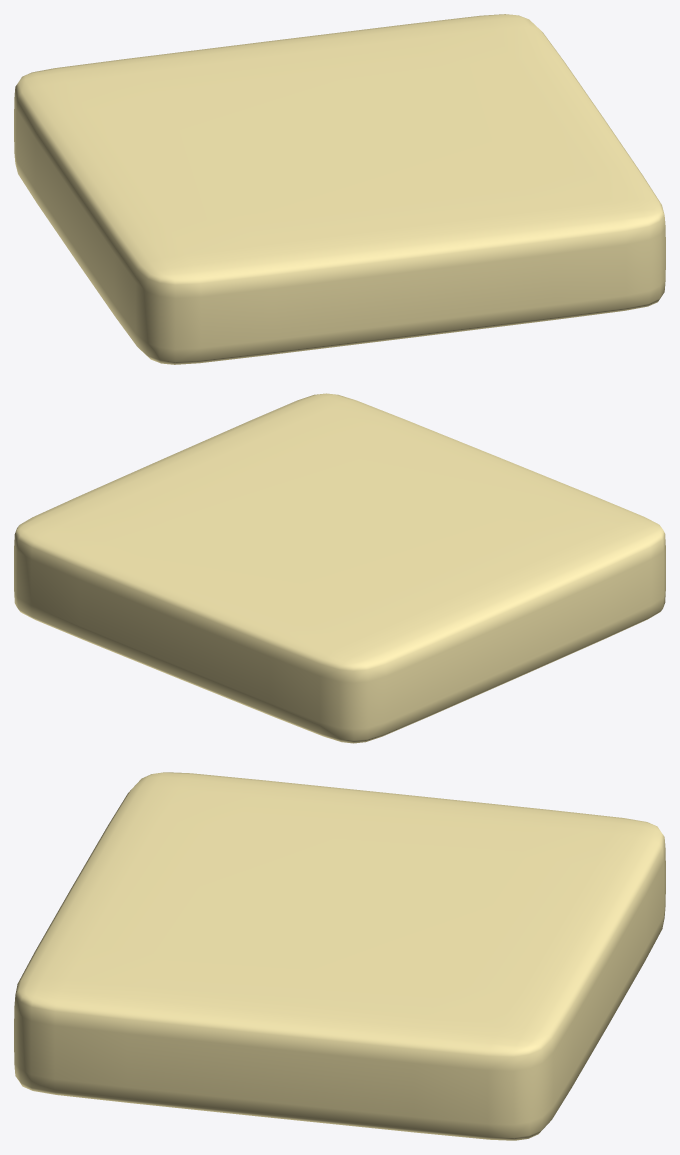
The model's file is PROP_Sandbox_v0.glb.
The picture shows the model from 3 angles, top to bottom: view 1: azimuth 30°, elevation 25°; view 2: azimuth 150°, elevation 25°; view 3: azimuth 270°, elevation 25°; orthographic projection. The views are drawn at different scales.
Visible parts, largest first — view 1: PROP_Sandbox_v0; view 2: PROP_Sandbox_v0; view 3: PROP_Sandbox_v0.
Boxes of the visible parts, left/top/right/bottom form: PROP_Sandbox_v0: left=14, top=14, right=665, bottom=364; PROP_Sandbox_v0: left=14, top=393, right=665, bottom=743; PROP_Sandbox_v0: left=14, top=772, right=665, bottom=1140.
Size of the model in its own units: 1.45 by 0.2411 by 1.41.
